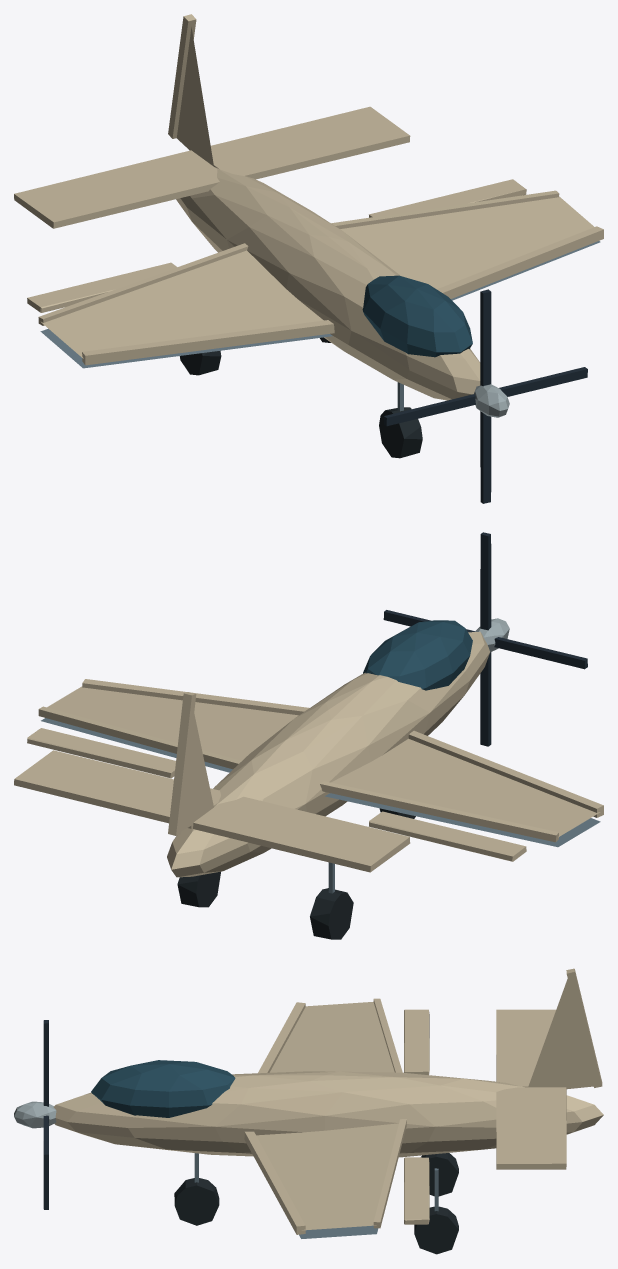
File: aircraft-prop-plane.lod1.glb
The picture shows the model from 3 angles, top to bottom: view 1: azimuth 30°, elevation 25°; view 2: azimuth 150°, elevation 25°; view 3: azimuth 270°, elevation 25°; orthographic projection. The views are drawn at different scales.
Visible parts, largest first — view 1: aircraft-prop-plane__body, aircraft-prop-plane__propeller_0, aircraft-prop-plane__aileron_-1, aircraft-prop-plane__aileron_1, aircraft-prop-plane__gear_0, aircraft-prop-plane__gear_-0p85; view 2: aircraft-prop-plane__body, aircraft-prop-plane__propeller_0, aircraft-prop-plane__aileron_-1, aircraft-prop-plane__aileron_1, aircraft-prop-plane__gear_-0p85, aircraft-prop-plane__gear_0p85; view 3: aircraft-prop-plane__body, aircraft-prop-plane__propeller_0, aircraft-prop-plane__gear_0, aircraft-prop-plane__aileron_1, aircraft-prop-plane__gear_0p85, aircraft-prop-plane__aileron_-1, aircraft-prop-plane__gear_-0p85.
Boxes of the visible parts, left/top/right/bottom form: aircraft-prop-plane__body: left=14, top=14, right=603, bottom=400; aircraft-prop-plane__propeller_0: left=383, top=289, right=587, bottom=503; aircraft-prop-plane__aileron_-1: left=27, top=262, right=176, bottom=312; aircraft-prop-plane__aileron_1: left=369, top=179, right=526, bottom=217; aircraft-prop-plane__gear_0: left=379, top=382, right=422, bottom=458; aircraft-prop-plane__gear_-0p85: left=179, top=350, right=221, bottom=375; aircraft-prop-plane__body: left=14, top=620, right=603, bottom=877; aircraft-prop-plane__propeller_0: left=383, top=532, right=587, bottom=746; aircraft-prop-plane__aileron_-1: left=369, top=811, right=526, bottom=861; aircraft-prop-plane__aileron_1: left=27, top=728, right=175, bottom=778; aircraft-prop-plane__gear_-0p85: left=310, top=862, right=353, bottom=939; aircraft-prop-plane__gear_0p85: left=177, top=871, right=220, bottom=907; aircraft-prop-plane__body: left=53, top=968, right=603, bottom=1238; aircraft-prop-plane__propeller_0: left=14, top=1020, right=56, bottom=1209; aircraft-prop-plane__gear_0: left=174, top=1153, right=219, bottom=1225; aircraft-prop-plane__aileron_1: left=404, top=1157, right=429, bottom=1224; aircraft-prop-plane__gear_0p85: left=414, top=1168, right=458, bottom=1254; aircraft-prop-plane__aileron_-1: left=404, top=1009, right=429, bottom=1074; aircraft-prop-plane__gear_-0p85: left=421, top=1153, right=458, bottom=1196.
Bounding box in the file's own units: 6.66 × 3.49 × 7.41.
